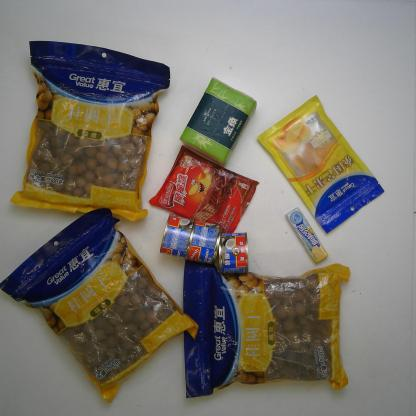Candy: (284, 206, 333, 265)
Canned Food: (185, 222, 226, 267), (158, 212, 196, 260), (215, 231, 253, 275)
Dessert: (148, 140, 262, 240)
Dried Food: (1, 207, 203, 407), (7, 35, 176, 222), (174, 253, 353, 399)
Dried Fruit: (255, 93, 388, 236)
Tissue: (178, 73, 260, 167)
